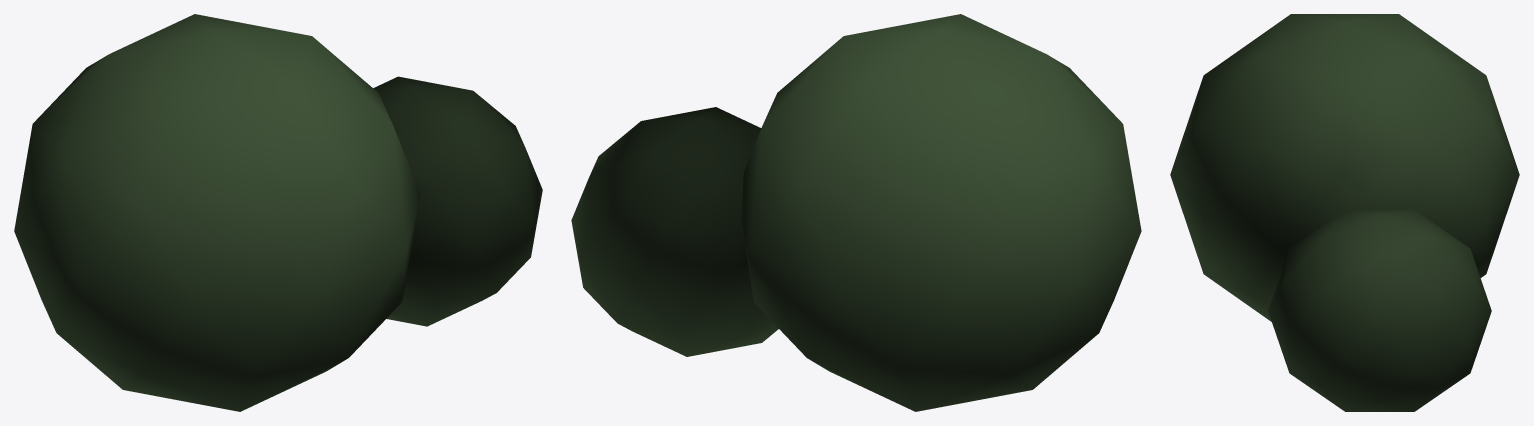
Rendered from scatter1.fbx.
3 views of the same model, side by side, from view 1: azimuth 30°, elevation 25°; view 2: azimuth 150°, elevation 25°; view 3: azimuth 270°, elevation 25° (orthographic). The views are drawn at different scales.
Visible parts, largest first — view 1: a2000/600/scatter1; view 2: a2000/600/scatter1; view 3: a2000/600/scatter1.
Part boxes in pixels (bbox=[...]): a2000/600/scatter1: bbox=[14, 14, 542, 411]; a2000/600/scatter1: bbox=[571, 14, 1141, 411]; a2000/600/scatter1: bbox=[1170, 14, 1519, 411].
Size of the model in its own units: 1.38 by 0.96 by 1.
